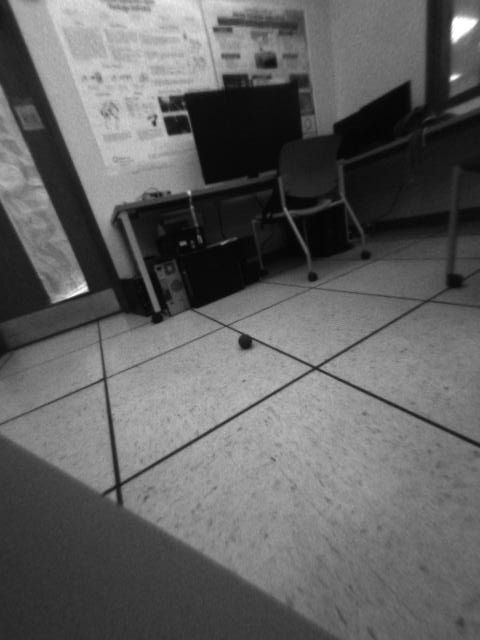dogtoy: (232, 324, 258, 353)
